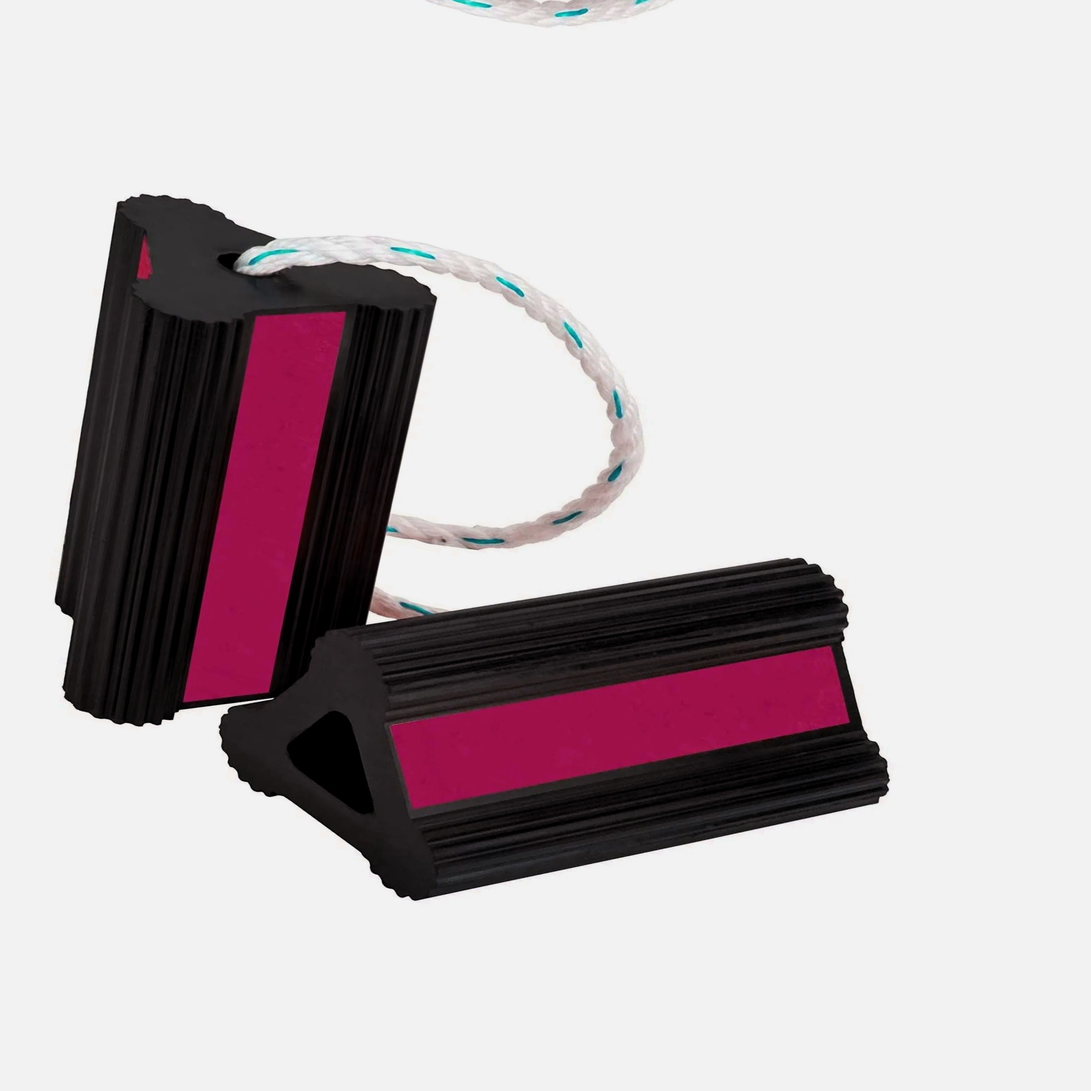chock: (192, 435, 938, 1001), (0, 173, 454, 774)
